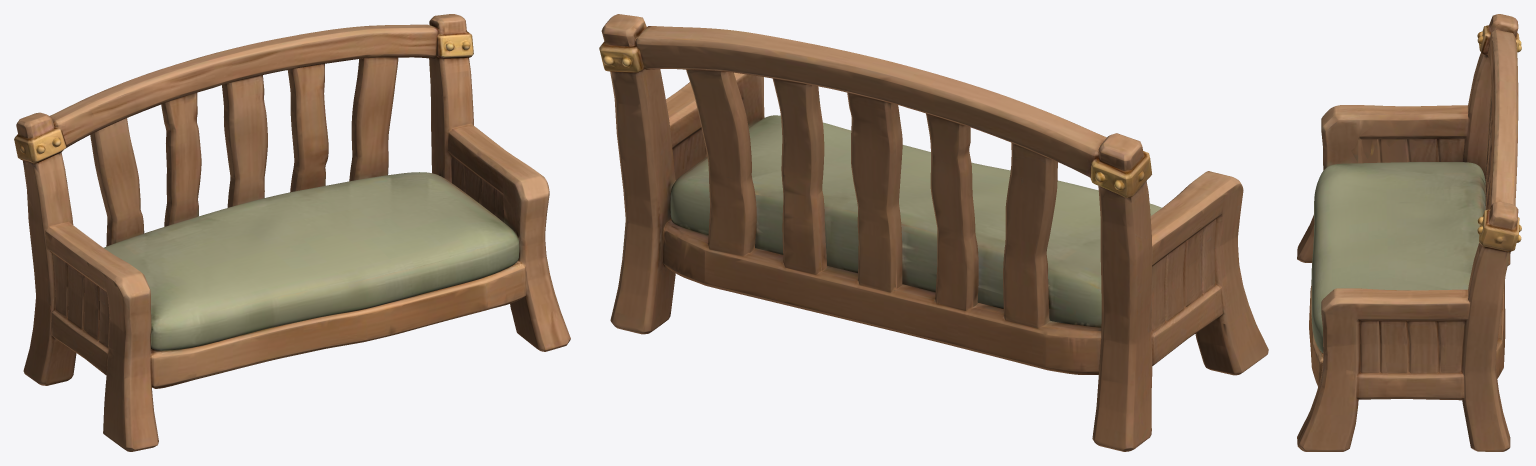
3 renders of one model, left to right at view 1: azimuth 30°, elevation 25°; view 2: azimuth 150°, elevation 25°; view 3: azimuth 270°, elevation 25°, orthographic. The views are drawn at different scales.
Parts seen in each view (by area): view 1: node_0; view 2: node_0; view 3: node_0.
Boxes of the visible parts, box(x1,y1,x2,y2) form: node_0: box(14, 14, 570, 451); node_0: box(599, 14, 1268, 451); node_0: box(1297, 14, 1521, 451).
Size of the model in its own units: 0.9804 by 0.5749 by 0.4558.
1 material, 1 textured.
